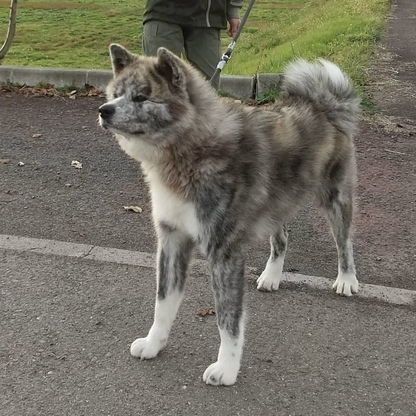akita: (83, 30, 373, 391)
